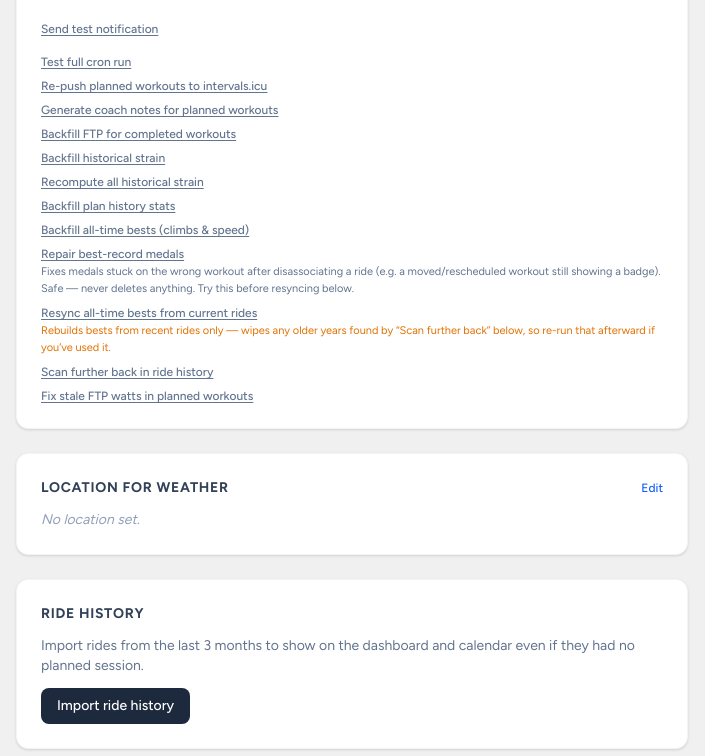
Account page — deep-history bests scan auto-continues across batches › stops issuing further batches once Stop is clicked
This screenshot has width=705, height=756.
(page scrolled)
Click the button "Scan further back in ride history": (127, 372) [41,364,213,380]
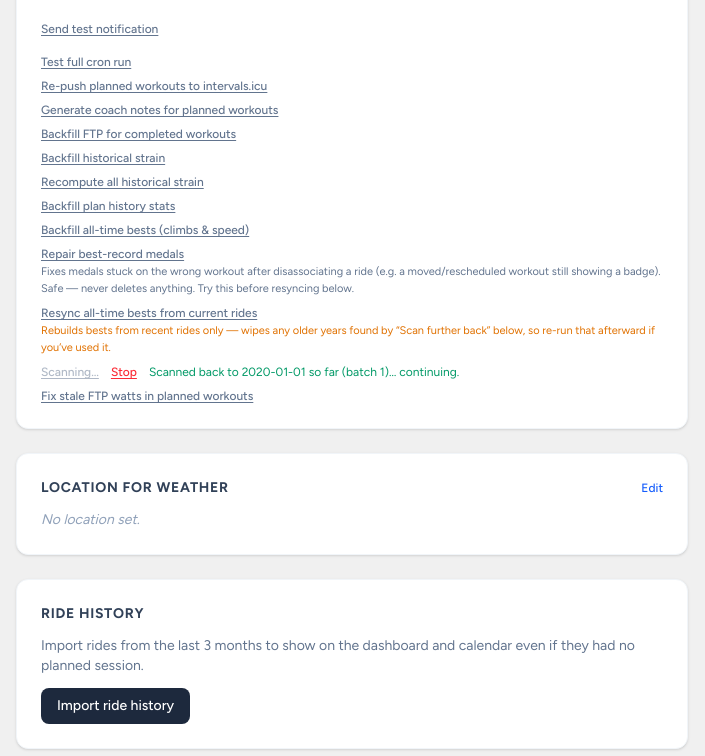
Check: the button "Stop" is shown
Click the button "Stop": (124, 372) [111,364,137,380]
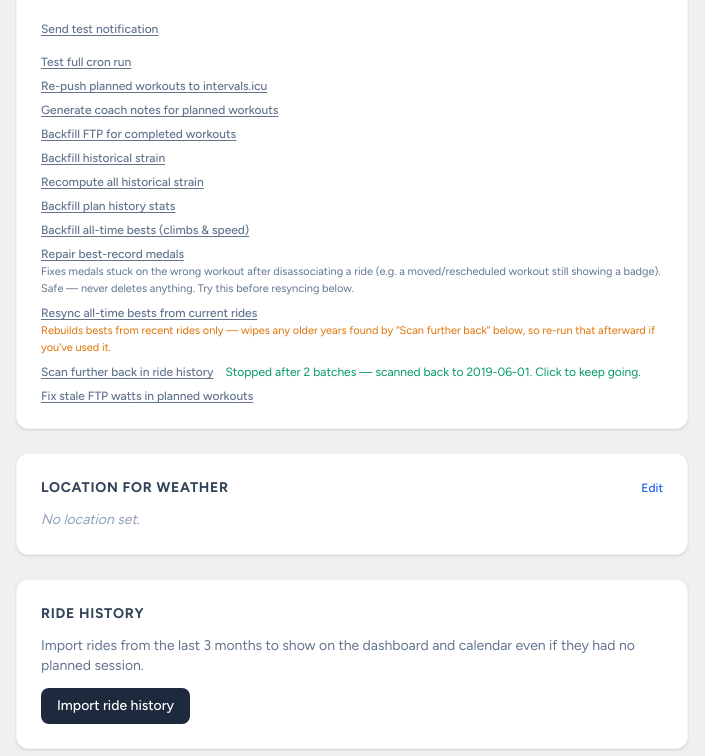
Check: the text "Stopped after 2 batches" is shown, box [225,365,641,379]
